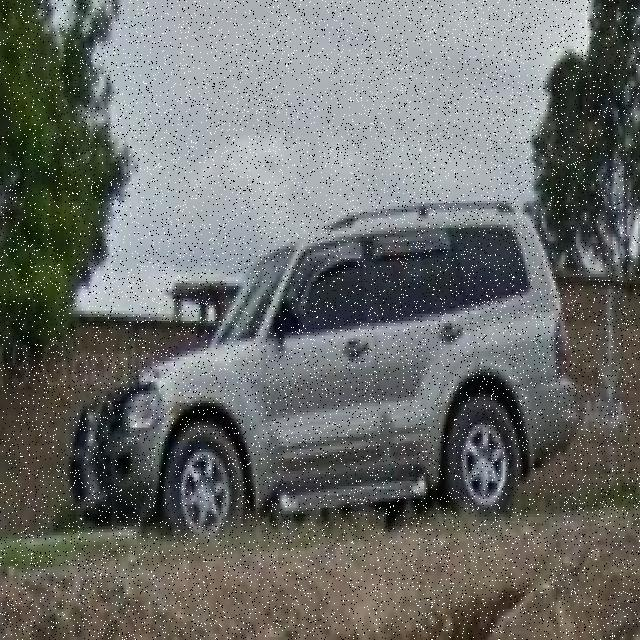cars: (72, 205, 568, 539)
